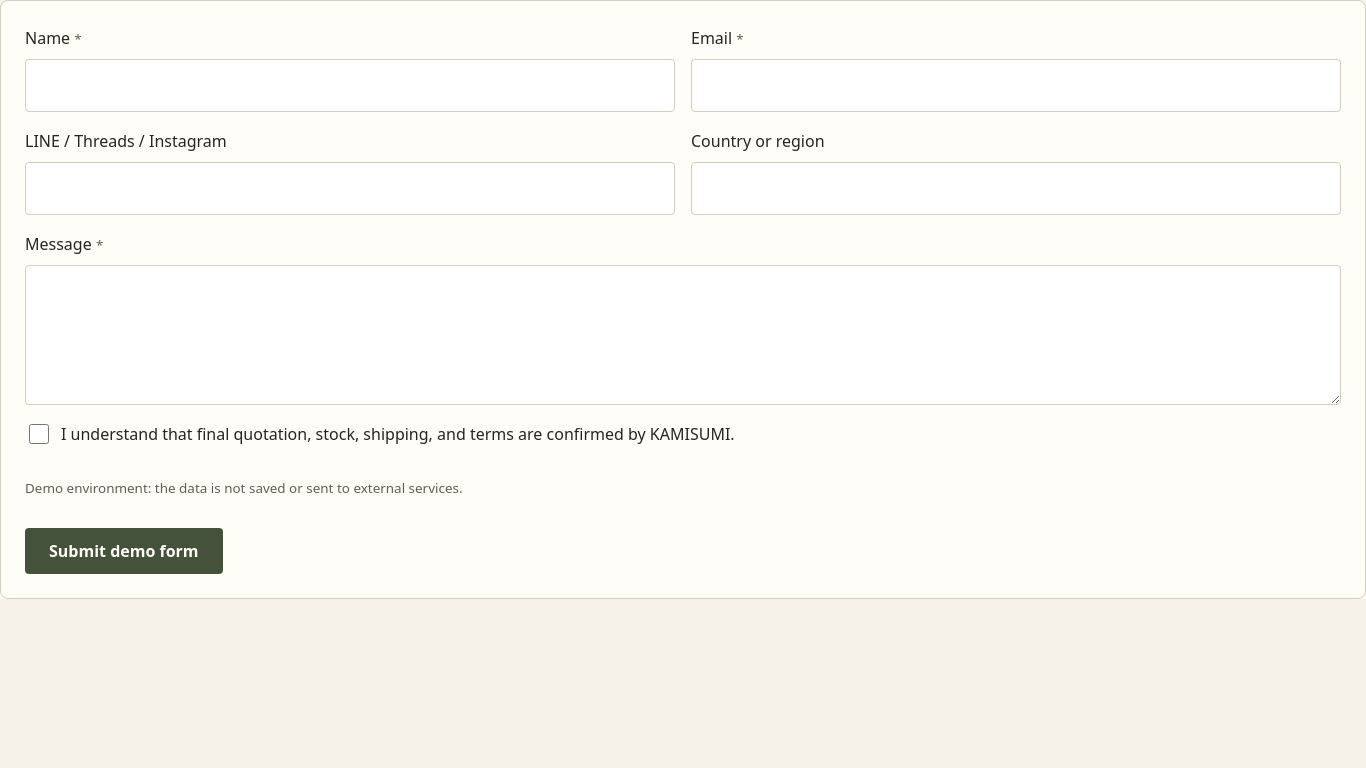
InquiryForm › shows the demo success message without storing data
This screenshot has width=1366, height=768.
Type "Tea Friend" into the field labelled "Name *". click: point(350, 86)
box: [25,59,675,112]
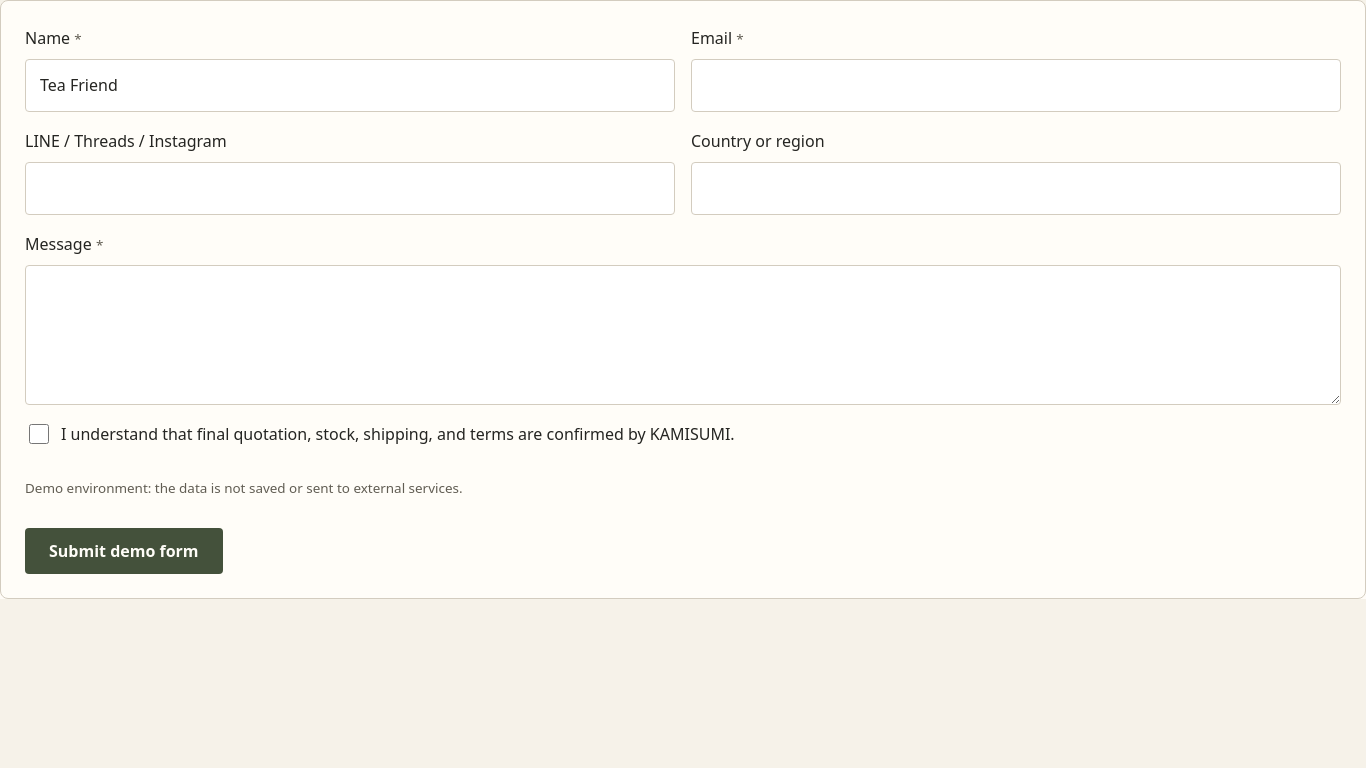
Type "tea@example.com" into the field labelled "Email *". click: point(1016, 86)
box: [691,59,1341,112]
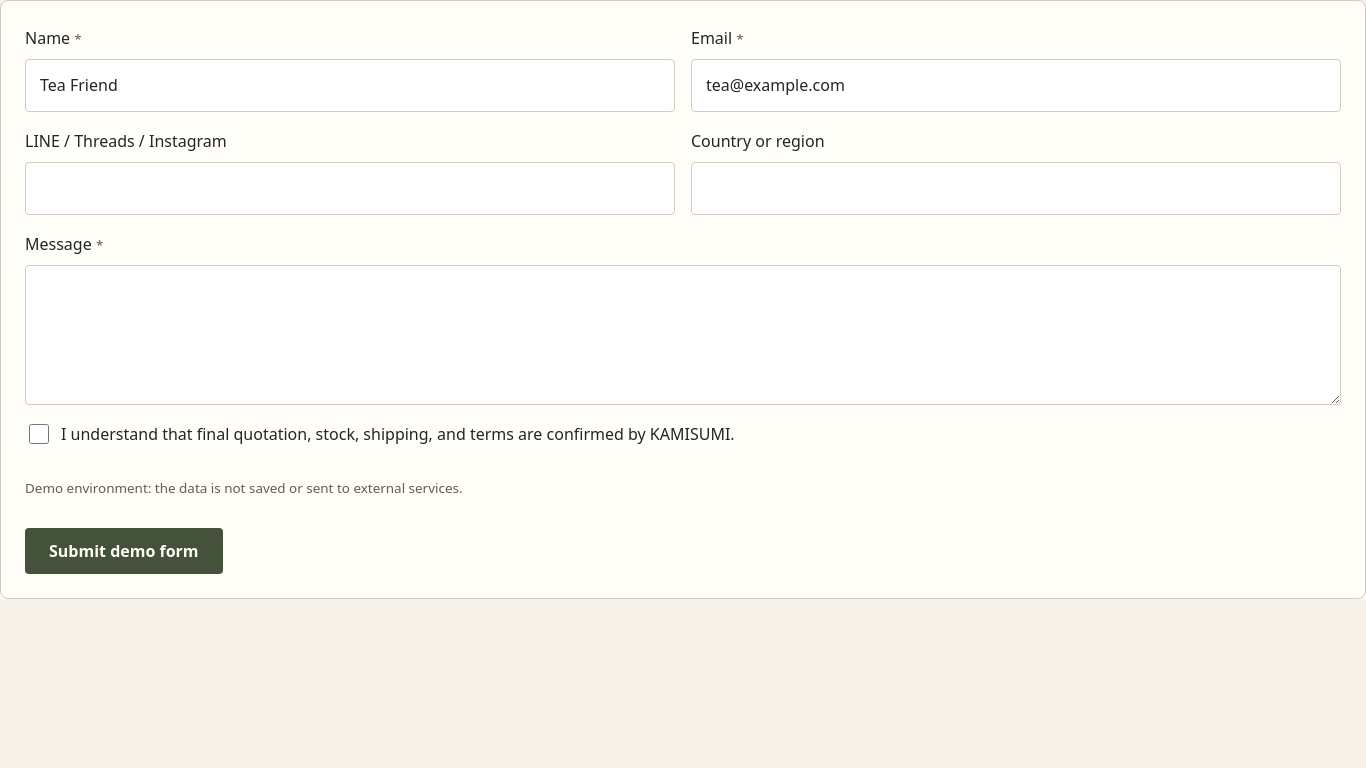
Type "Hello" into the text box labelled "Message *". click: point(683, 335)
box: [25,265,1341,405]
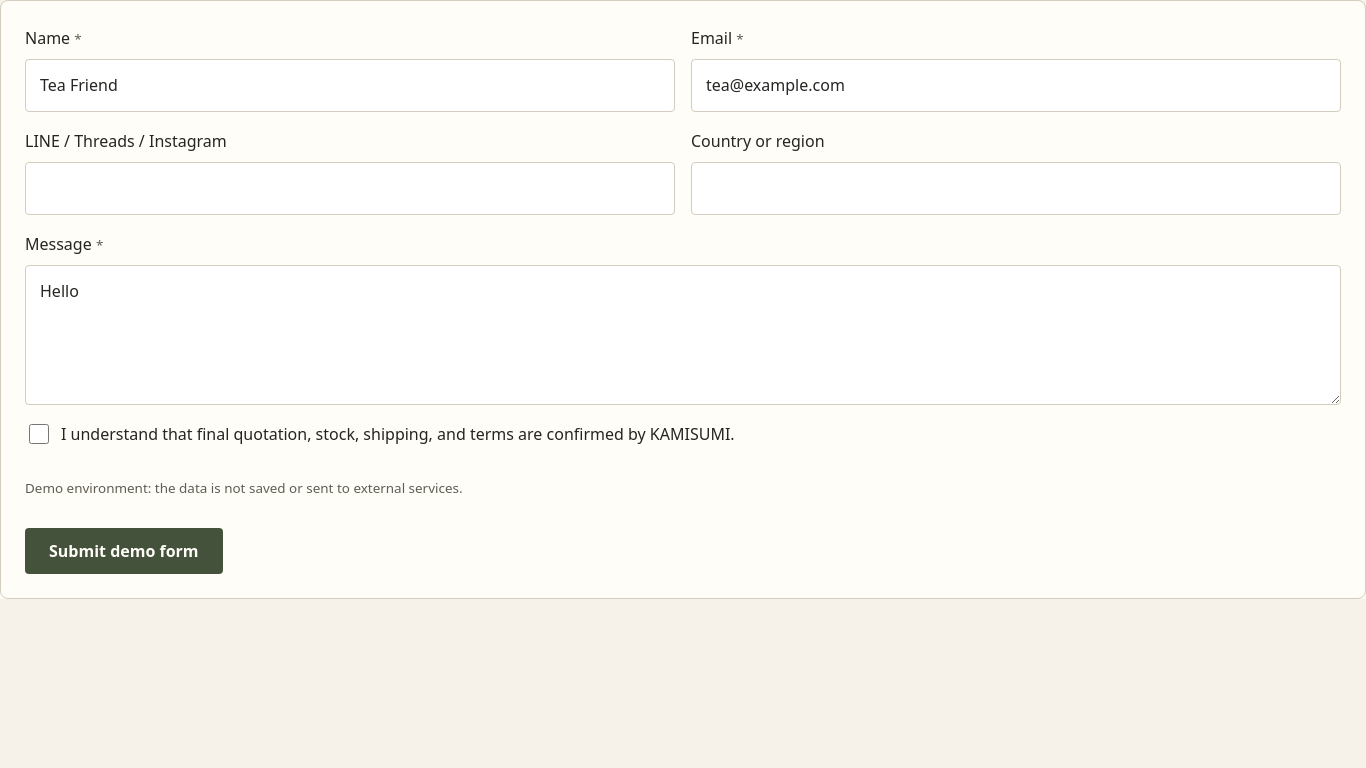
Click the checkbox. click: point(39, 434)
box: [29,424,49,444]
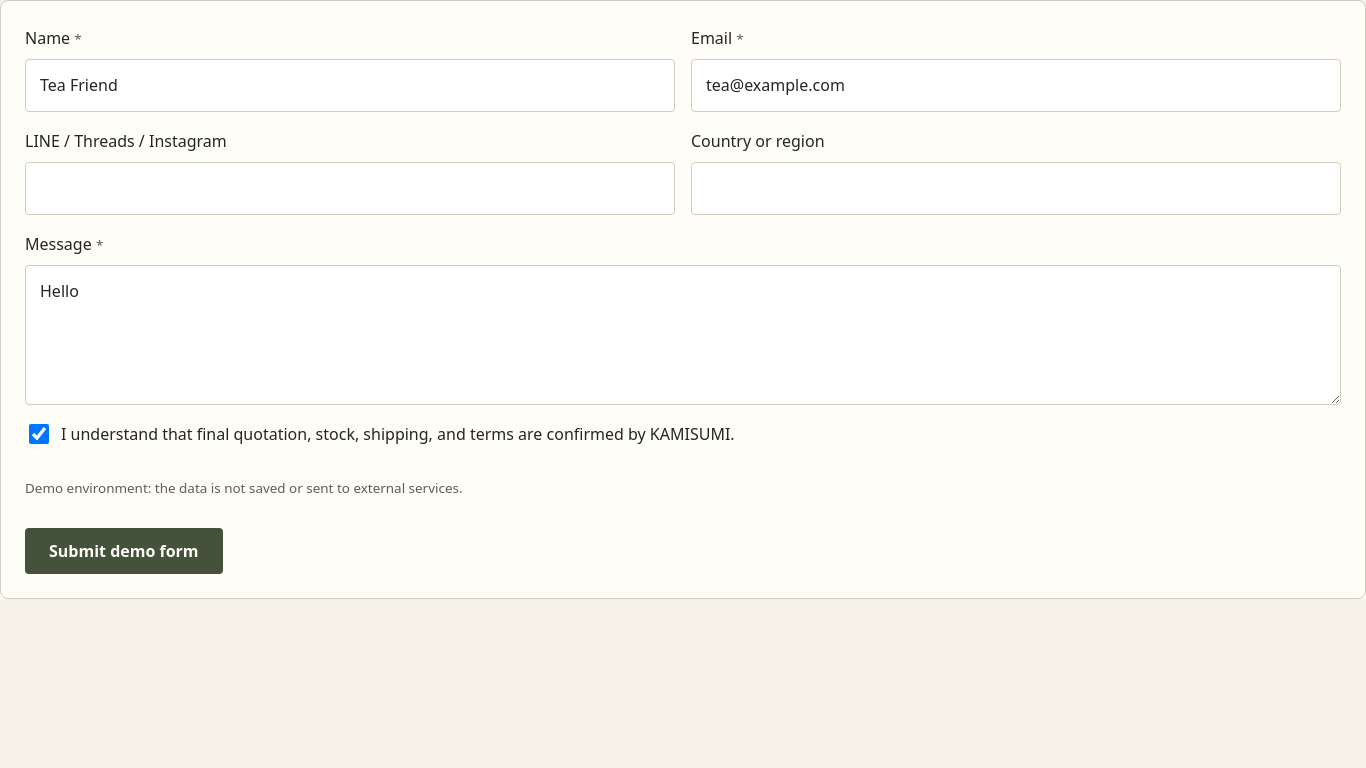
Click the button "Submit demo form". click: point(124, 551)
box: [25,528,223,574]
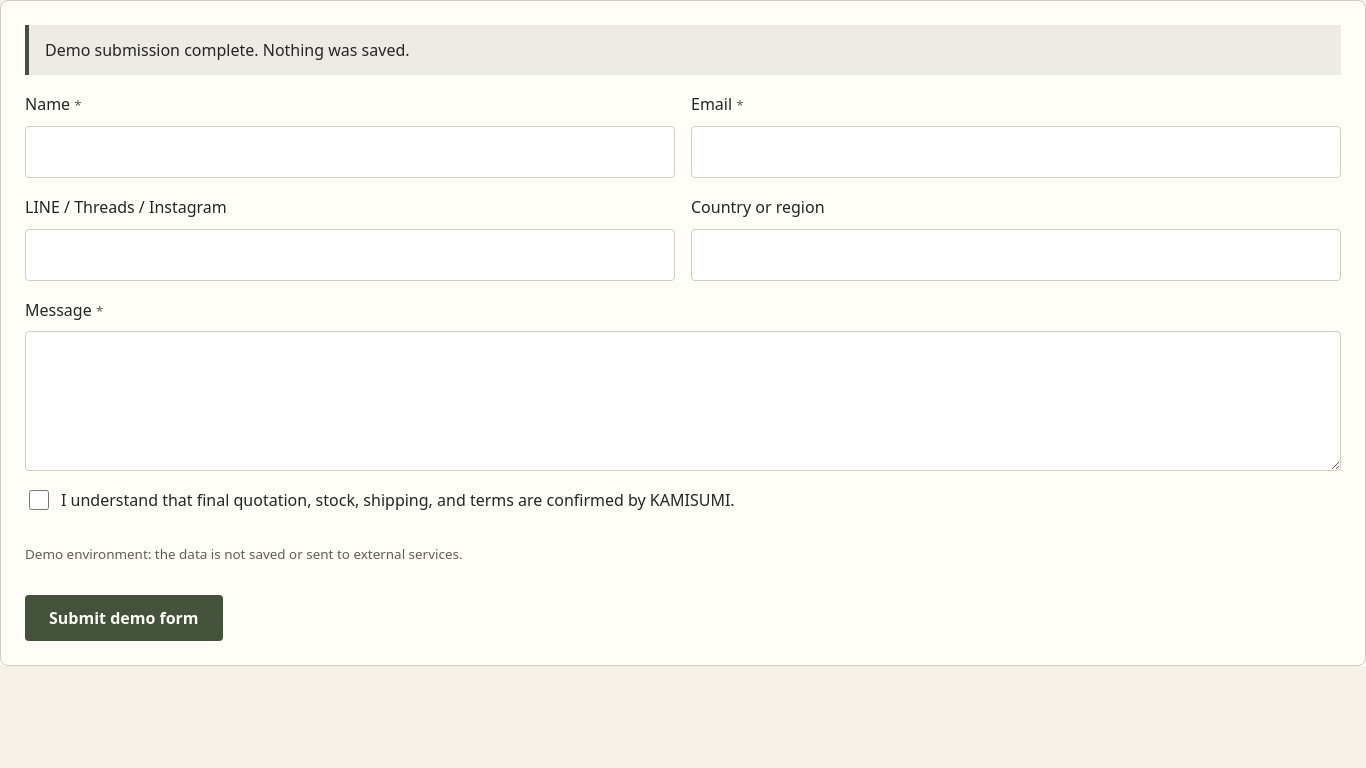
Expected: the text "Demo submission complete. Nothing was saved." is shown, [25,25,1341,75]
